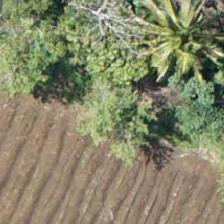coconut_tree: (134, 0, 223, 81)
